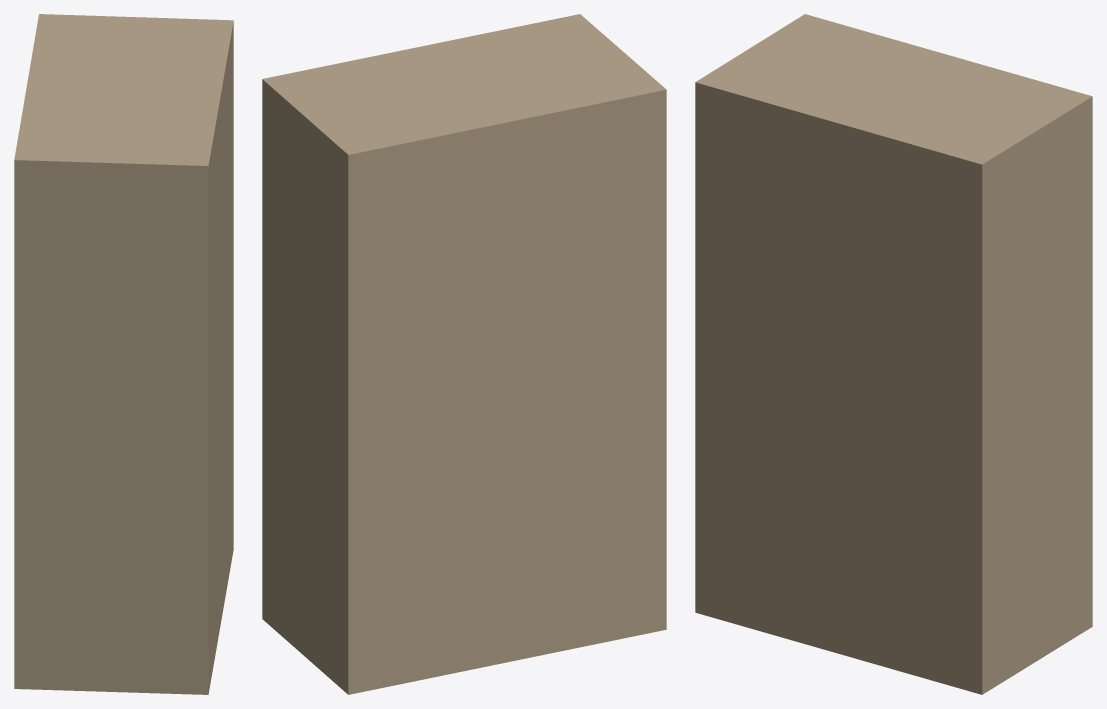
Rendered from bld_99616025.dae.
3 views of the same model, side by side, from view 1: azimuth 30°, elevation 25°; view 2: azimuth 150°, elevation 25°; view 3: azimuth 270°, elevation 25° (orthographic). The views are drawn at different scales.
Visible parts, largest first — view 1: bld_99616025; view 2: bld_99616025; view 3: bld_99616025.
Boxes of the visible parts, bbox=[...] form: bld_99616025: bbox=[14, 14, 233, 694]; bld_99616025: bbox=[262, 14, 666, 694]; bld_99616025: bbox=[695, 14, 1092, 694].
Size of the model in its own units: 4.87 by 5.43 by 8.
